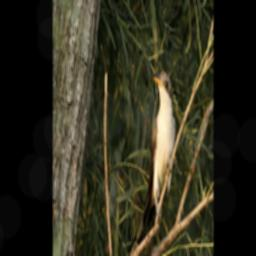Cuckoo: (127, 70, 177, 256)
